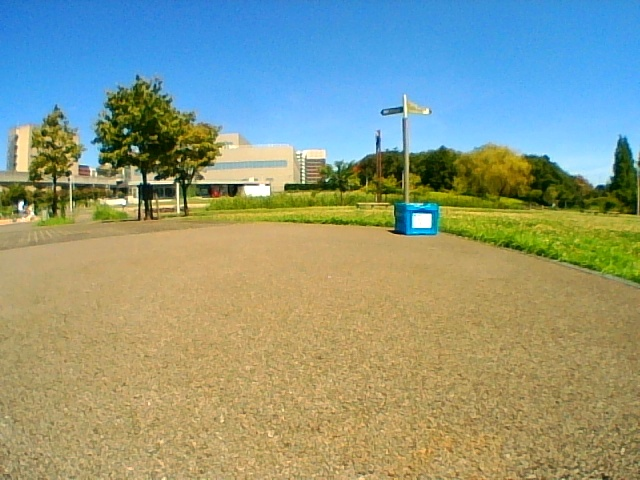blue_box: (396, 203, 437, 234)
tag: (412, 213, 431, 228)
